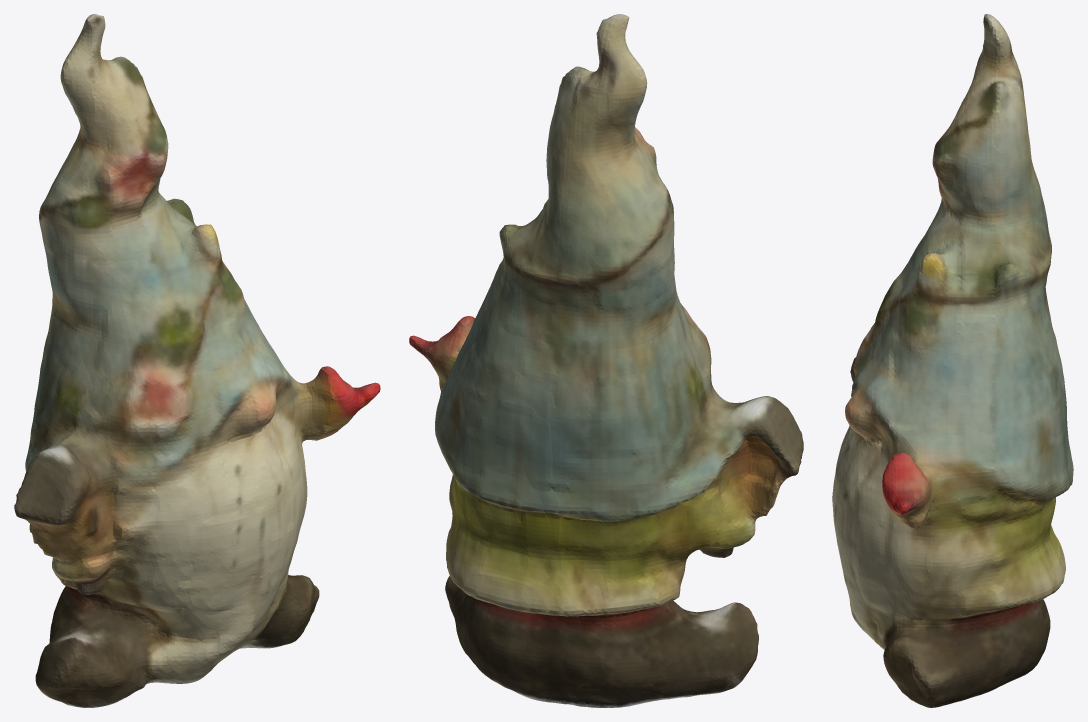
The model's file is omesh_30.glb.
3 renders of one model, left to right at view 1: azimuth 30°, elevation 25°; view 2: azimuth 150°, elevation 25°; view 3: azimuth 270°, elevation 25°, orthographic. The views are drawn at different scales.
Visible parts, largest first — view 1: world; view 2: world; view 3: world.
Part boxes in pixels (x1=…): world: x1=14, y1=14, x2=380, y2=707; world: x1=409, y1=14, x2=803, y2=707; world: x1=832, y1=14, x2=1073, y2=707.
Size of the model in its own units: 0.7278 by 1.24 by 0.4353.
